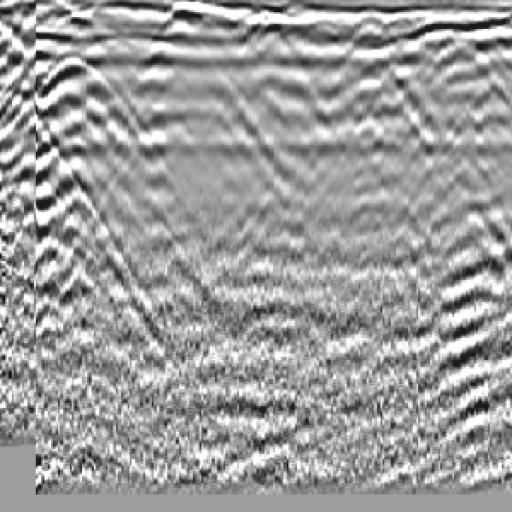non-metallic: (1, 41, 180, 259)
